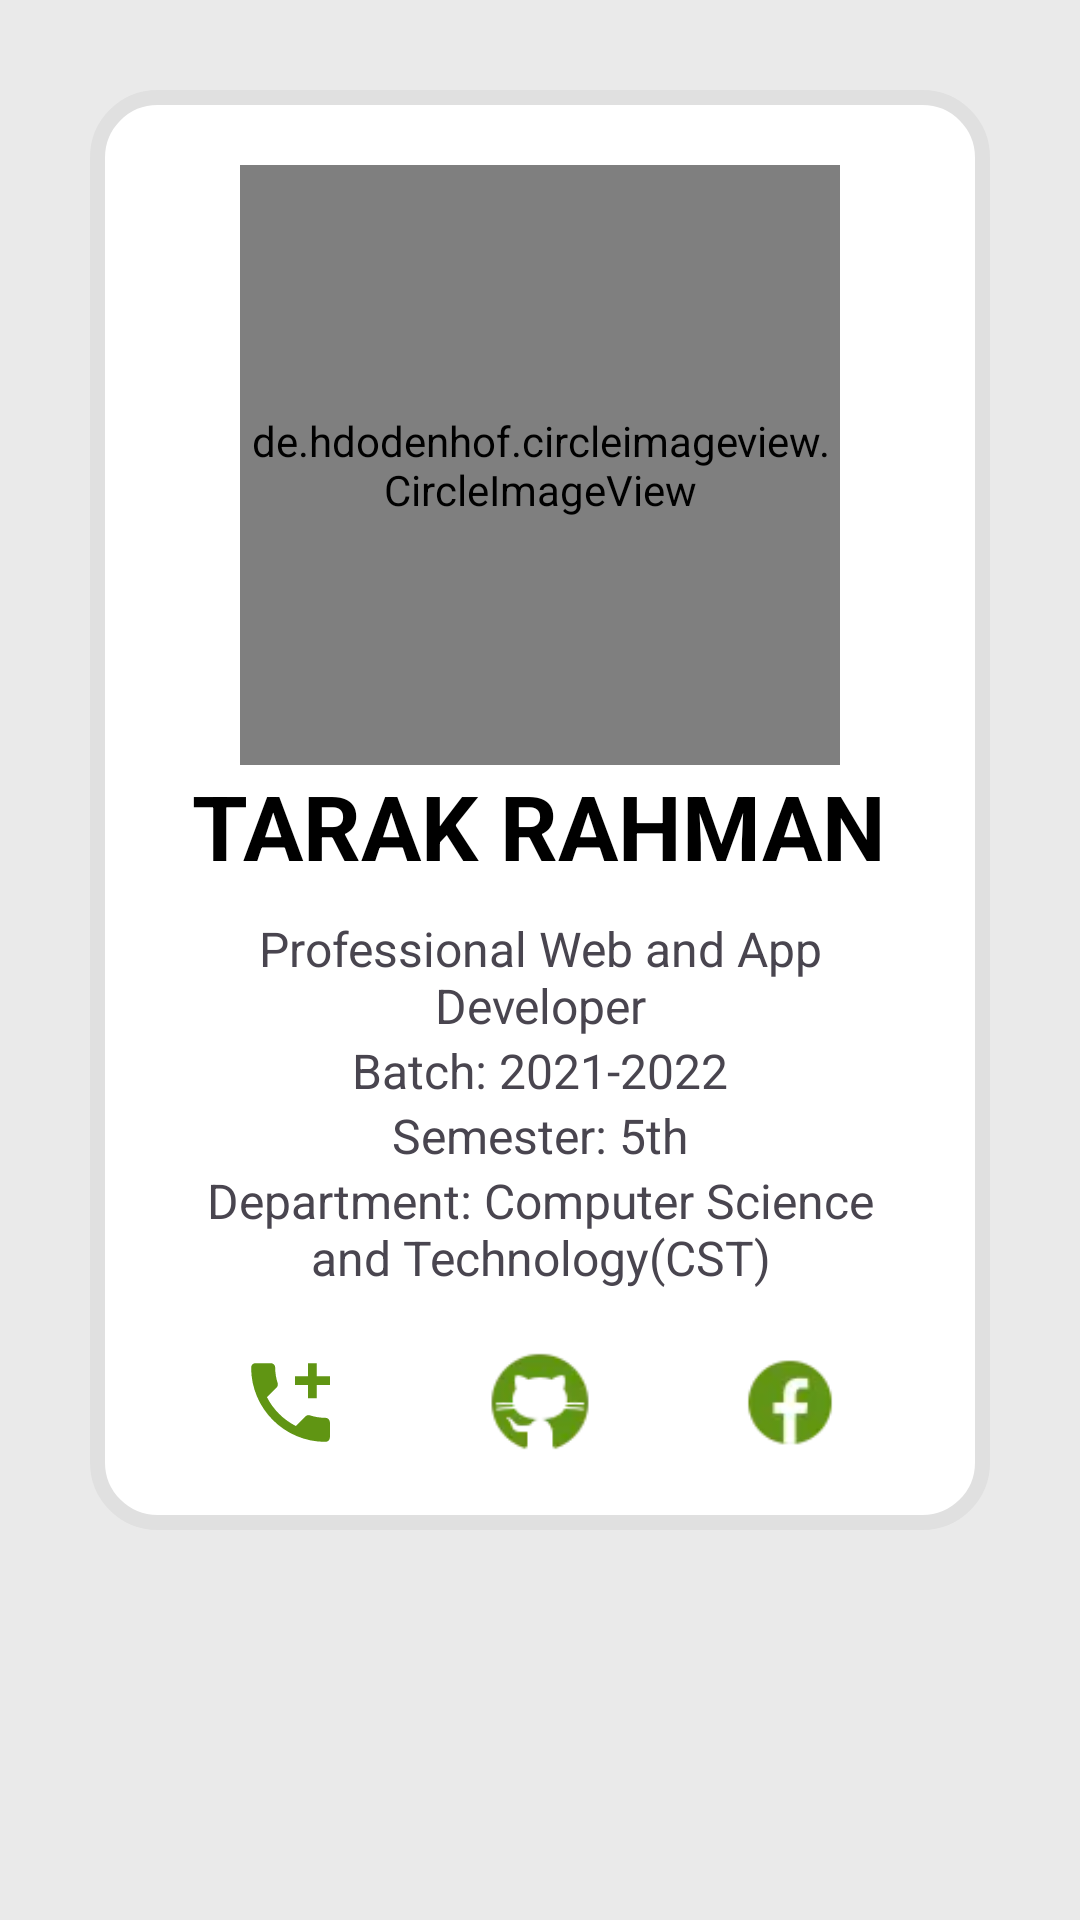

Icons on this 1080 x 1920 Android screen, each with its box as (x1, y1, x2, y2):
add call: (251, 1363, 330, 1442)
